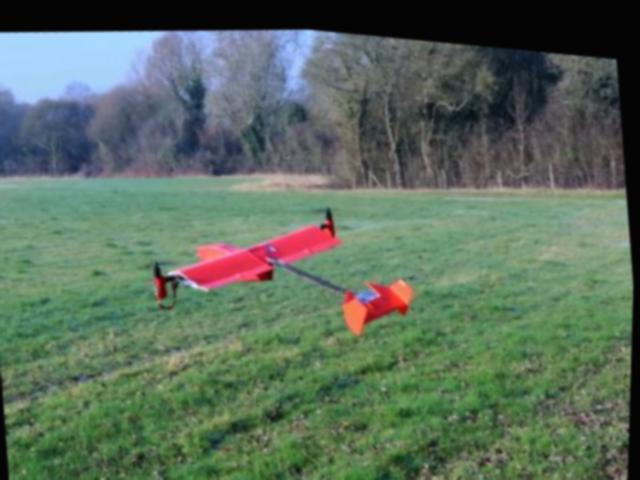uav: (160, 191, 423, 347)
